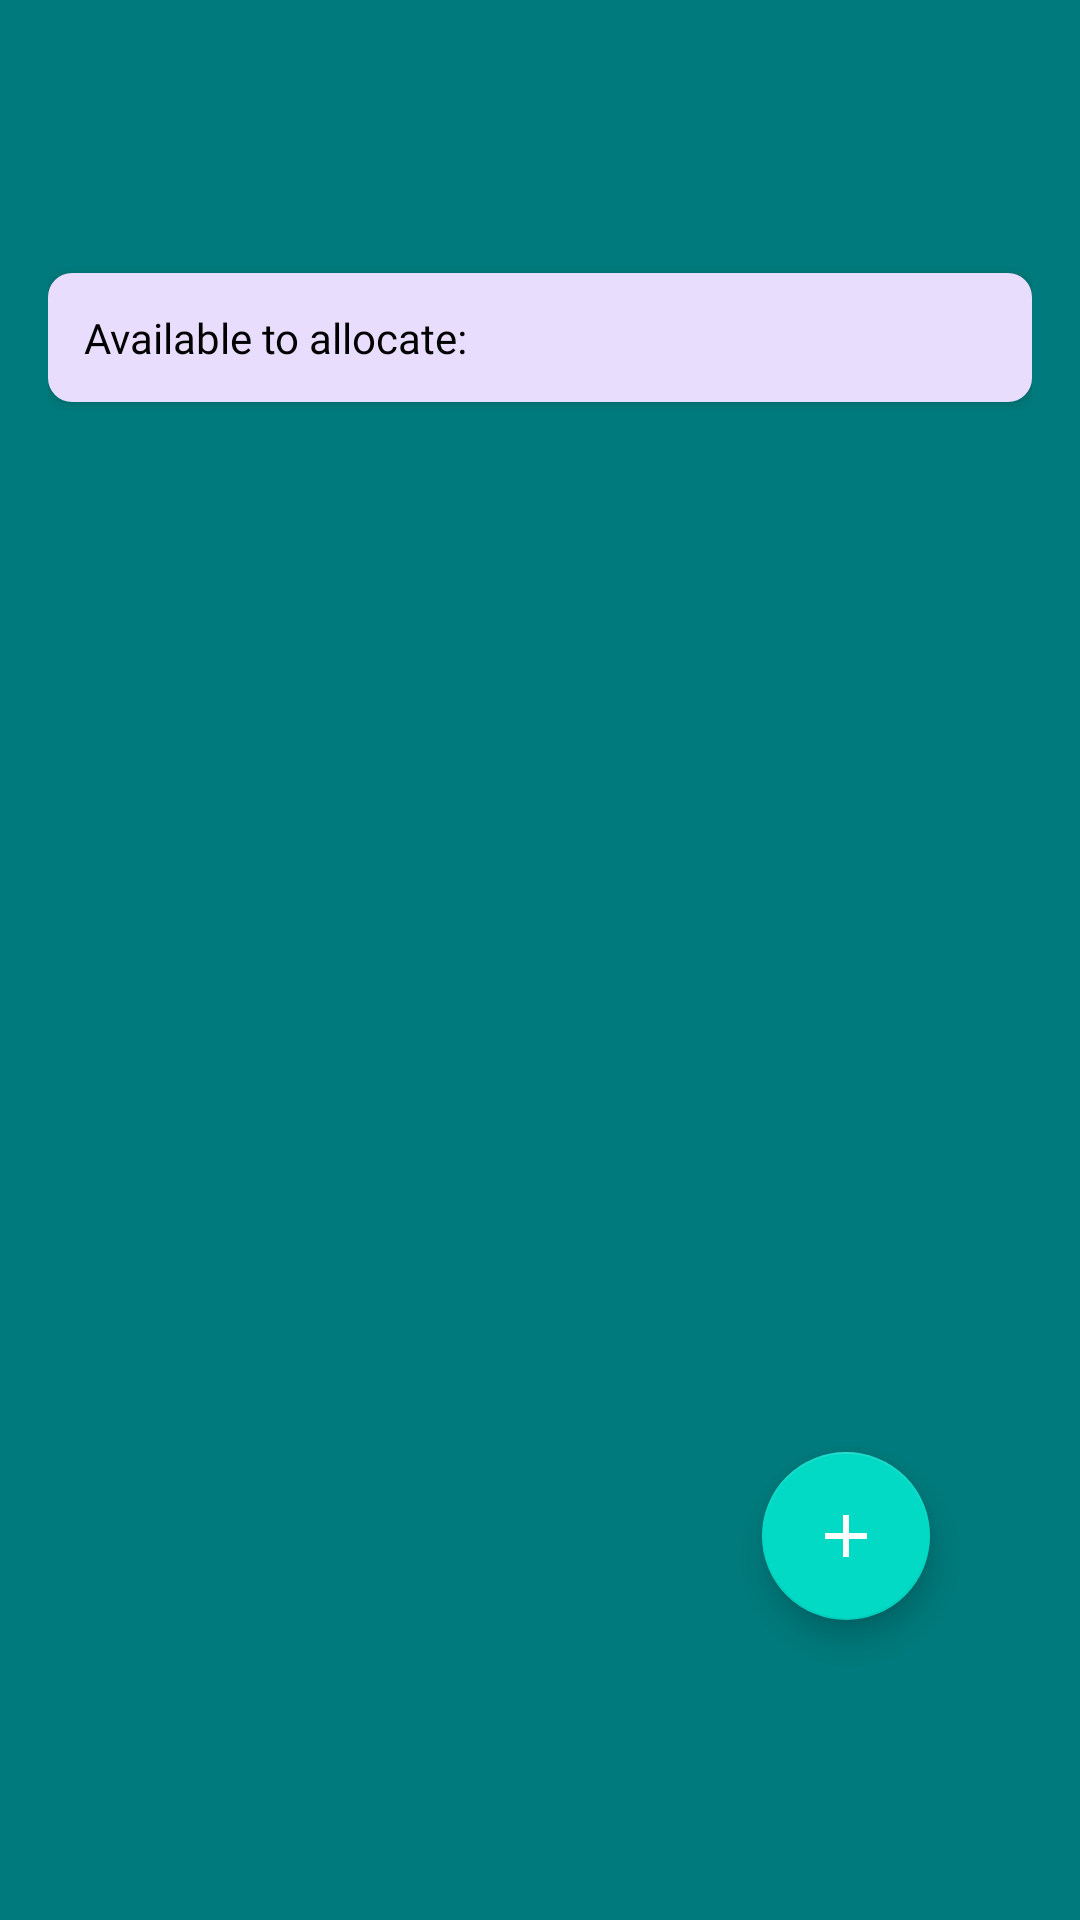

Where icons sit on this 1080px×1920px app screen, as (x1, y1, x2, y2):
Add Bucket: (762, 1452, 930, 1620)
